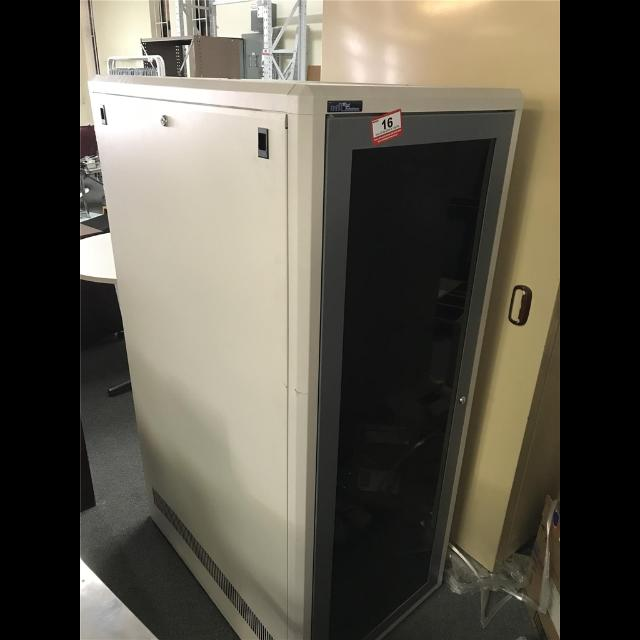Server: (80, 66, 526, 640)
